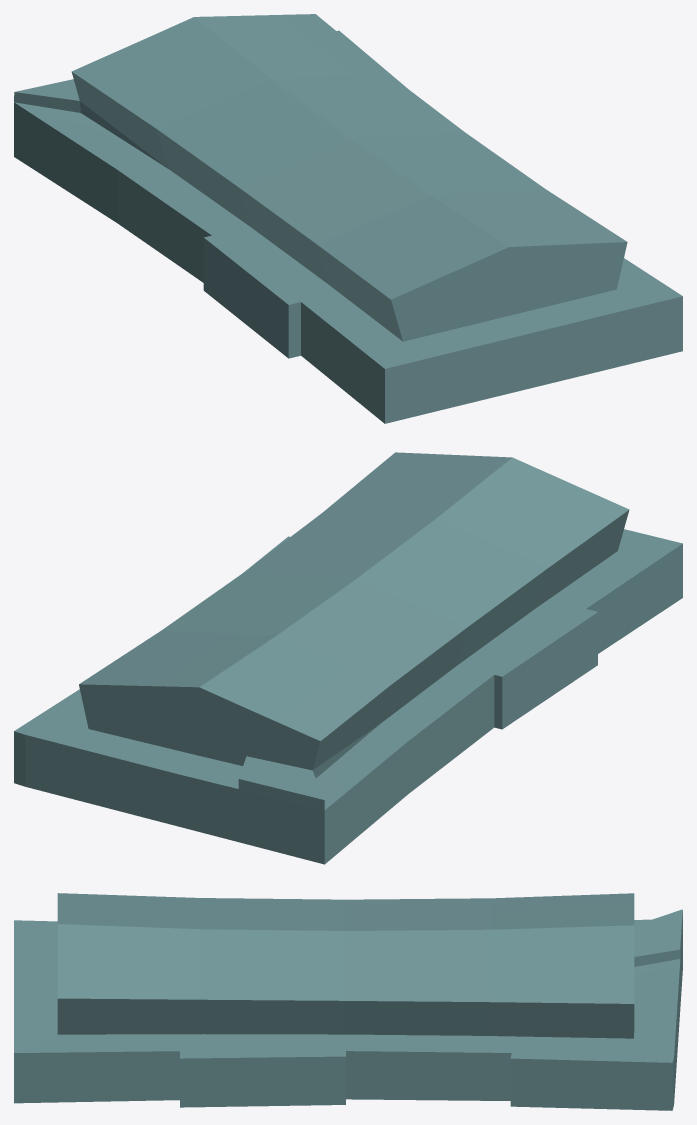
File: Cementery_Grave.fbx
The picture shows the model from 3 angles, top to bottom: view 1: azimuth 30°, elevation 25°; view 2: azimuth 150°, elevation 25°; view 3: azimuth 270°, elevation 25°; orthographic projection. The views are drawn at different scales.
Visible parts, largest first — view 1: Grave_003; view 2: Grave_003; view 3: Grave_003.
Boxes of the visible parts, x1,y1,x2,y2 form: Grave_003: (14,14,682,423); Grave_003: (14,452,682,864); Grave_003: (14,893,682,1110).
Size of the model in its own units: 86.83 by 31.92 by 172.
